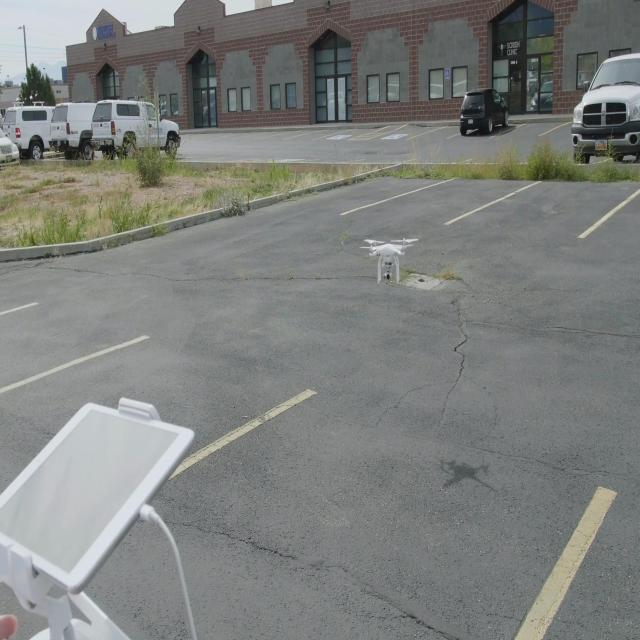drone: (362, 231, 418, 284)
